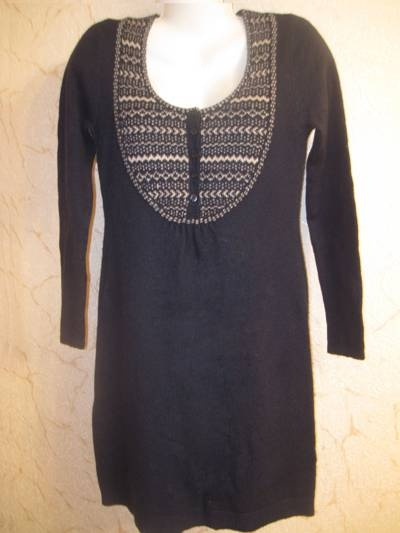Dress: (38, 16, 381, 529)
